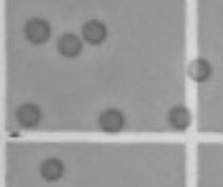cell: (22, 15, 54, 49), (165, 101, 197, 133), (183, 55, 215, 86), (96, 105, 127, 137), (54, 30, 84, 60), (37, 155, 68, 184), (81, 18, 110, 47), (14, 101, 44, 129)
